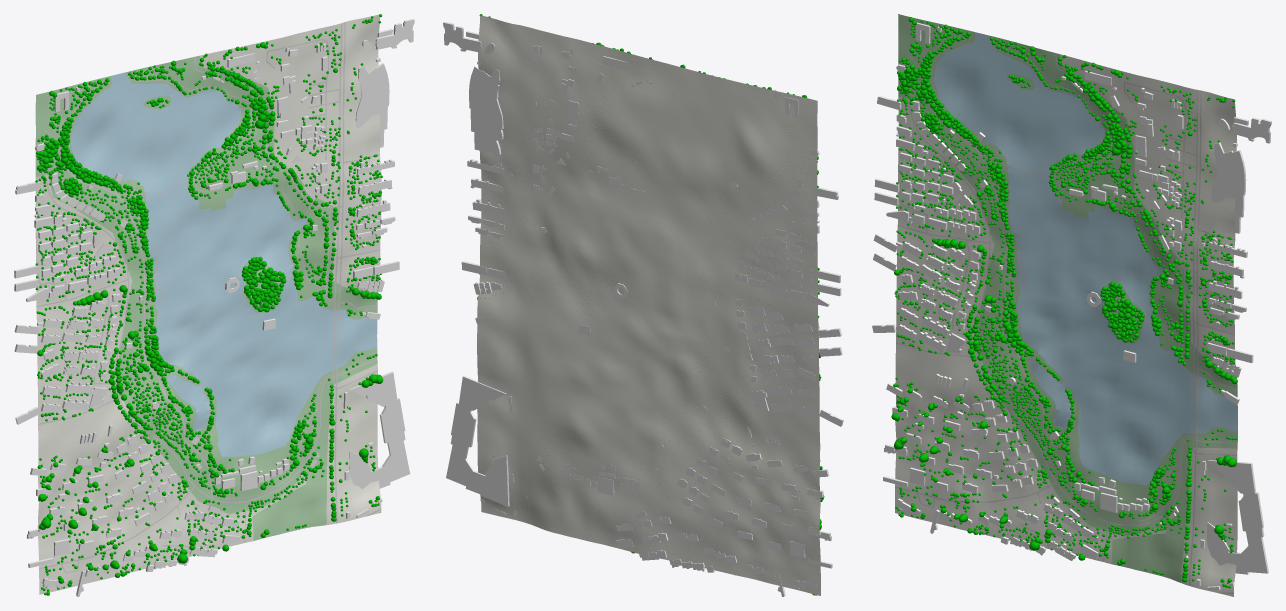
The picture shows the model from 3 angles, left to right: view 1: azimuth 30°, elevation 25°; view 2: azimuth 150°, elevation 25°; view 3: azimuth 330°, elevation 25°; orthographic projection.
Parts seen in each view (by area): view 1: TPX_Ground, TPX_Waterways_1, TPX_GreenAreas, TPX_Buildings, TPX_RoadsOutlines; view 2: TPX_Ground, TPX_Buildings; view 3: TPX_Ground, TPX_Waterways_1, TPX_GreenAreas, TPX_Buildings, TPX_RoadsOutlines.
Part boxes in pixels (left/top/right/bottom): TPX_Ground: left=35, top=14, right=381, bottom=594; TPX_Waterways_1: left=70, top=72, right=377, bottom=457; TPX_GreenAreas: left=35, top=55, right=377, bottom=540; TPX_Buildings: left=14, top=19, right=414, bottom=596; TPX_RoadsOutlines: left=35, top=22, right=381, bottom=573; TPX_Ground: left=477, top=15, right=820, bottom=595; TPX_Buildings: left=443, top=21, right=843, bottom=596; TPX_Ground: left=895, top=54, right=1237, bottom=596; TPX_Waterways_1: left=934, top=32, right=1237, bottom=485; TPX_GreenAreas: left=898, top=14, right=1237, bottom=582; TPX_Buildings: left=872, top=22, right=1271, bottom=590; TPX_RoadsOutlines: left=895, top=30, right=1237, bottom=596.
Size of the model in its own units: 984 by 1203 by 54.09.
